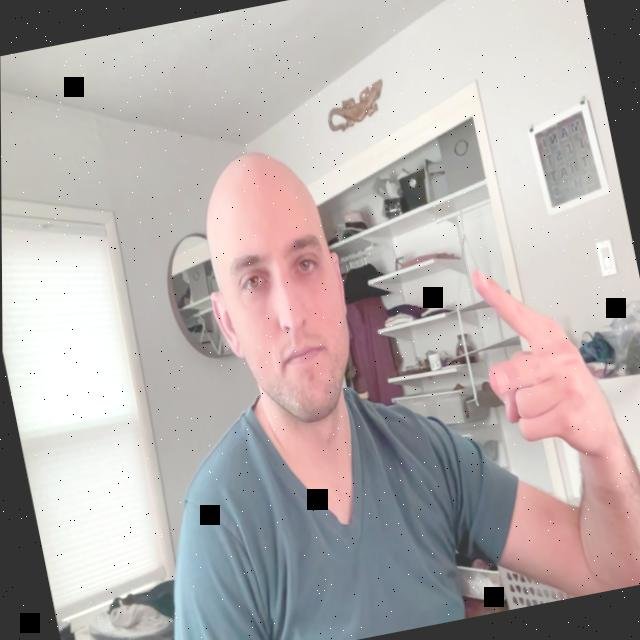Scissors: (464, 246, 618, 482)
